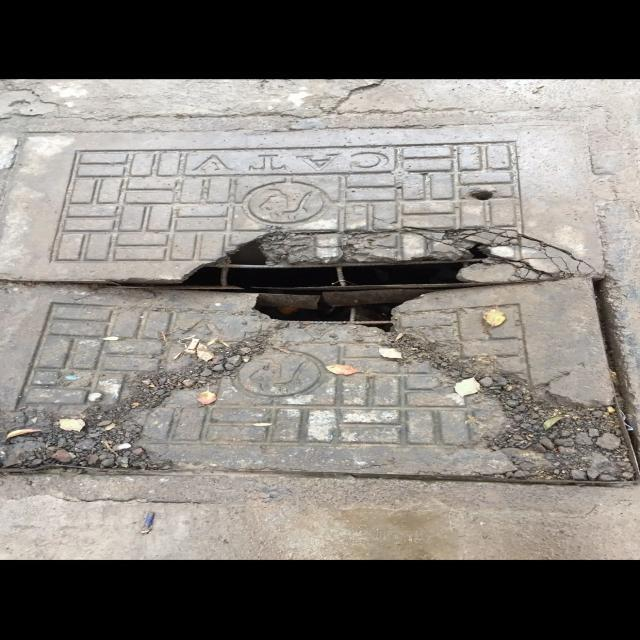manhole: (0, 130, 636, 481)
